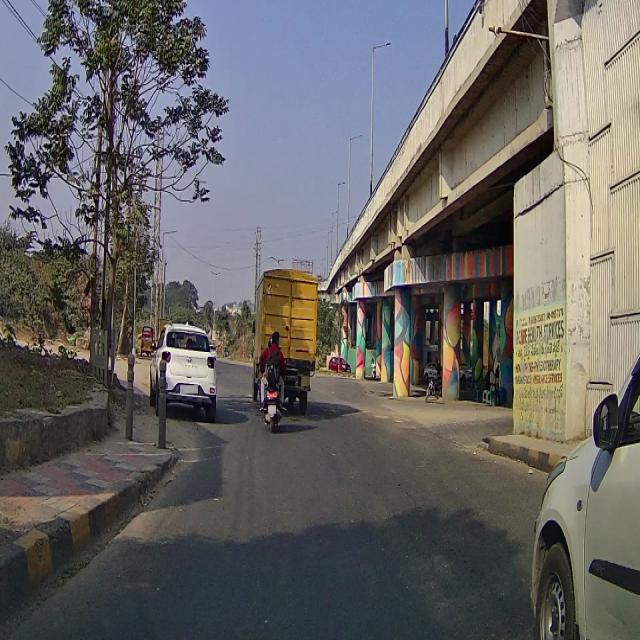auto ahead at: (253, 261, 320, 424)
barrier ahead at: (150, 356, 172, 455)
car ahead at: (532, 352, 640, 640), (162, 322, 220, 413)
motorcycle ahead at: (256, 373, 292, 440)
